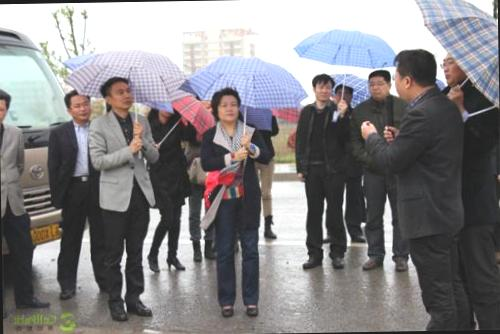no_helmet: (389, 50, 440, 108), (208, 85, 244, 127), (99, 76, 135, 115), (438, 47, 468, 92), (64, 86, 96, 124), (365, 68, 394, 106), (307, 72, 336, 104), (332, 78, 356, 112), (0, 86, 13, 130)
